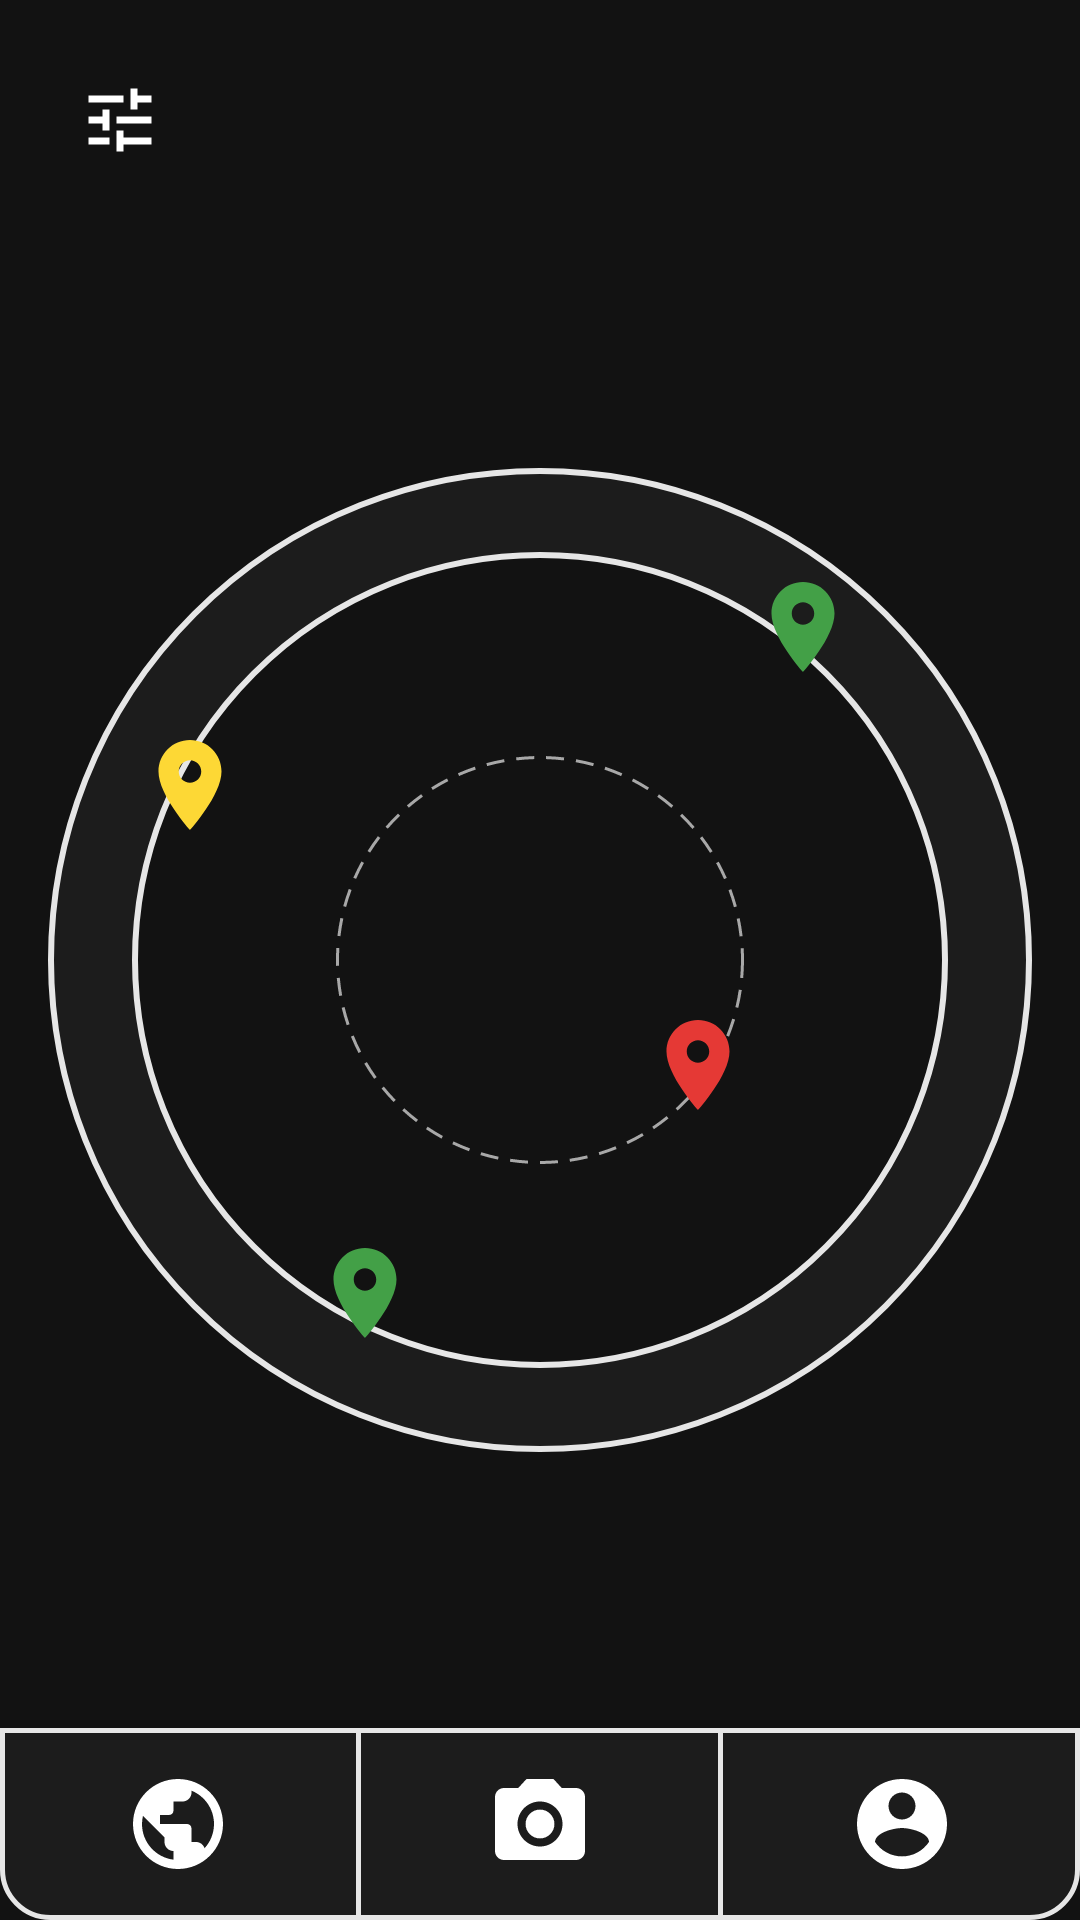

Named icons in this screenshot (1080px x 1920px) and their centers, (x,y):
Filter categories: (120,120)
Map: (178,1824)
Profile: (902,1824)
Report pin: (803,627), (186,785), (700,1064), (365,1297)
